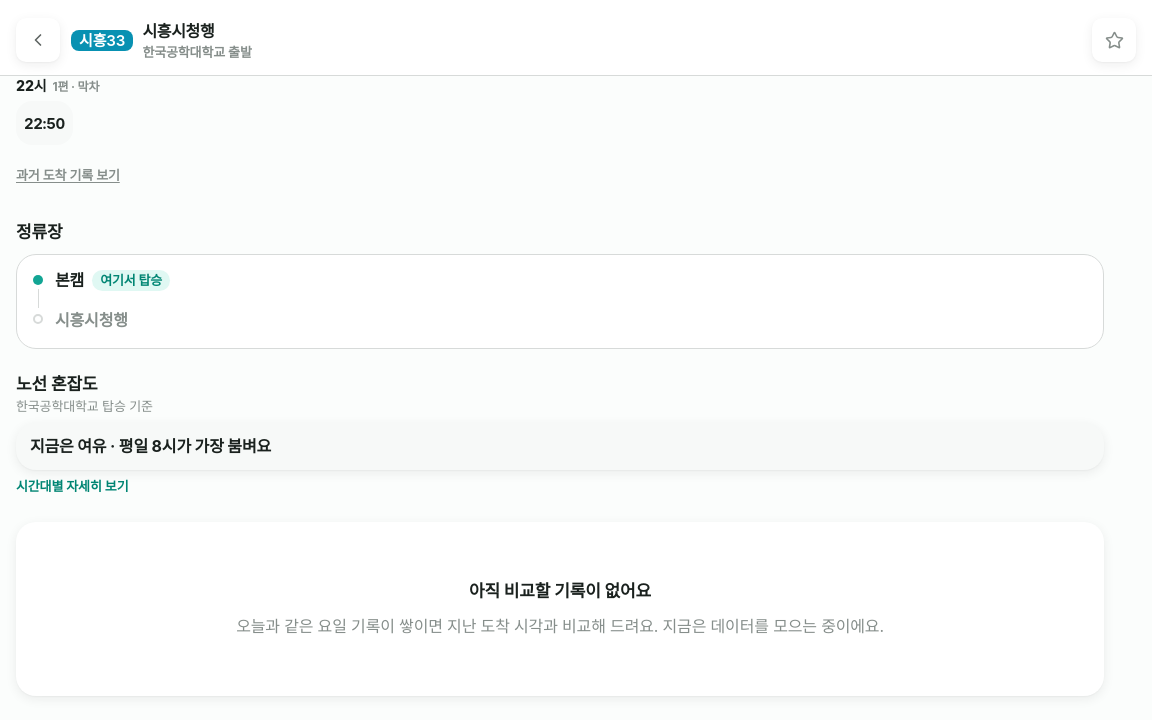
Test: RouteDetailPage › ④ 혼잡도 섹션(RouteCrowdingSummary) › 등급이 갈리면 문장 + 펼치기 버튼이 보이고, 펼치면 12칸 그리드가 나타난다
This screenshot has width=1152, height=720.
(page scrolled)
Expected: the text "지금은 여유 · 평일 8시가 가장 붐벼요" is shown, [30,436,271,456]
Click the button "시간대별 자세히 보기".
click(72, 486)  # box [16,478,128,495]
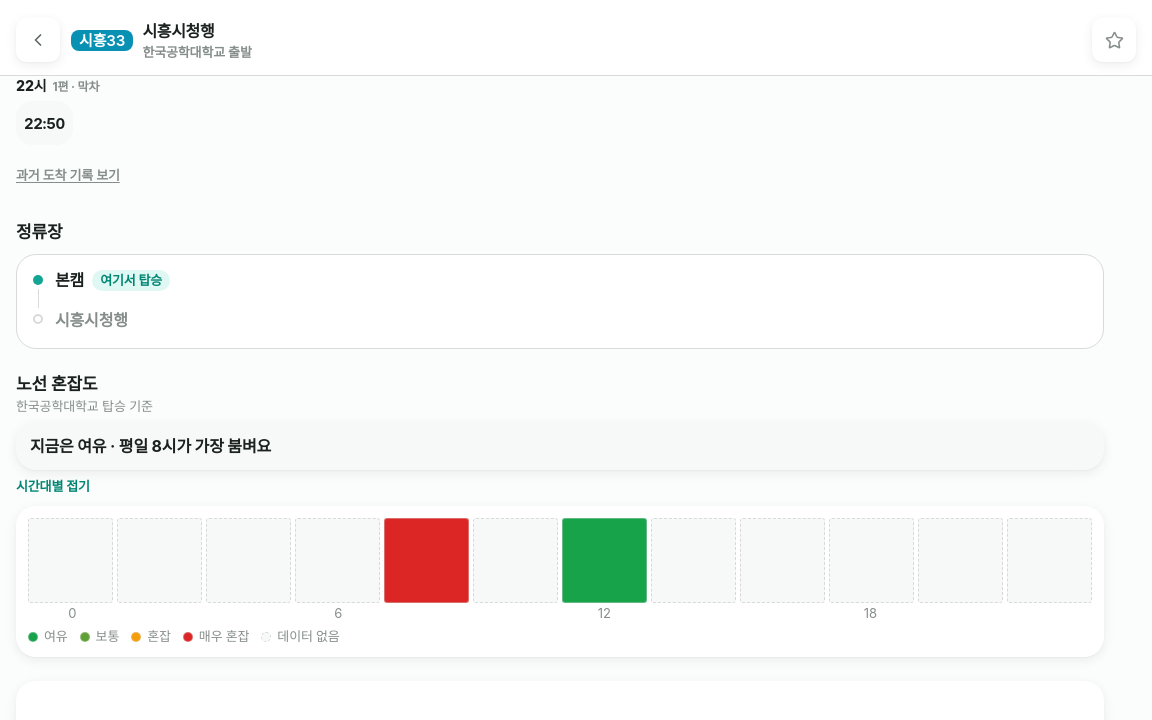
Result: the 1st element with class "grid-cols-12" is shown at [28,518,1092,603]
